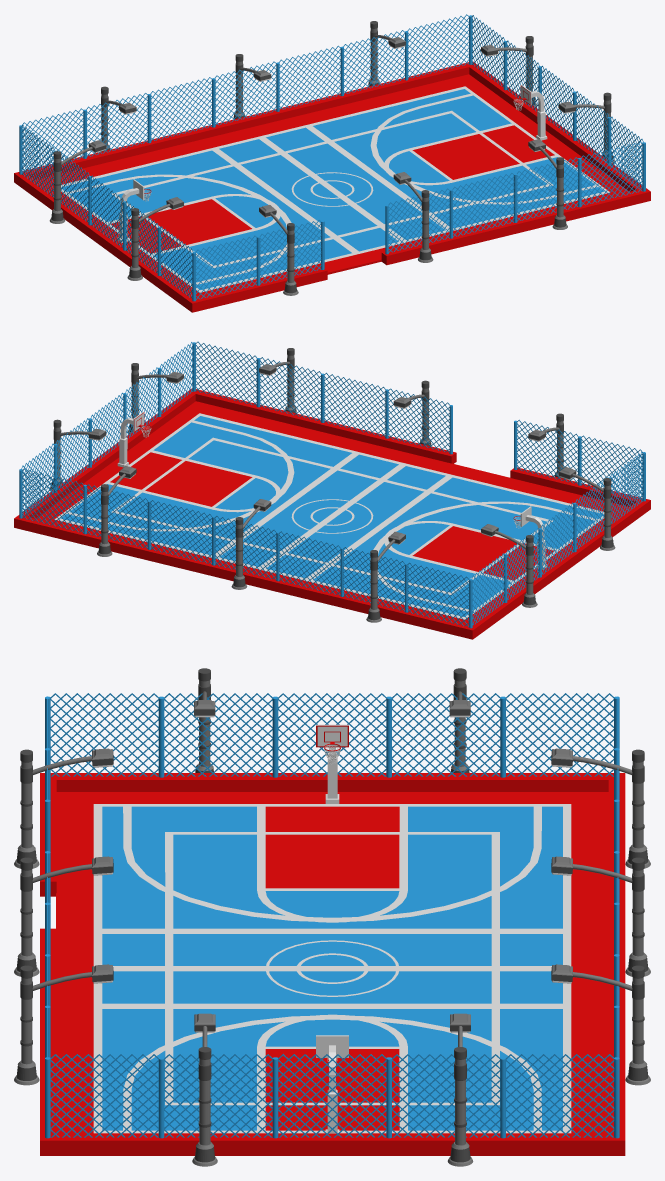
File: basketball_court.glb
3 renders of one model, top to bottom at view 1: azimuth 30°, elevation 25°; view 2: azimuth 150°, elevation 25°; view 3: azimuth 270°, elevation 25°, orthographic. The views are drawn at different scales.
Visible parts, largest first — view 1: Basketball Court; view 2: Basketball Court; view 3: Basketball Court.
Part boxes in pixels (<box>): Basketball Court: <box>14,14,650,312</box>; Basketball Court: <box>14,341,650,639</box>; Basketball Court: <box>14,668,650,1166</box>.
Size of the model in its own units: 110 by 14.89 by 76.13.
